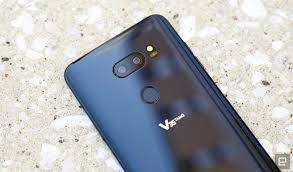lg: (54, 8, 277, 172)
